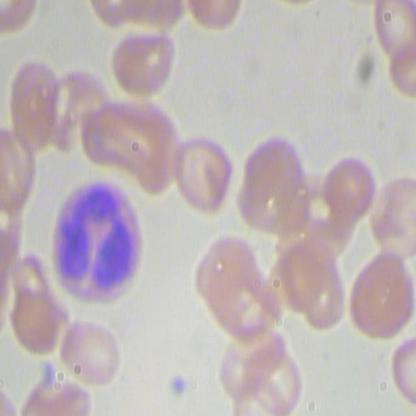RBC: (237, 131, 315, 232), (346, 247, 416, 337), (194, 230, 262, 320), (6, 57, 64, 160), (170, 131, 238, 212), (110, 20, 177, 101), (54, 317, 126, 383), (245, 340, 307, 412), (7, 281, 66, 355), (322, 154, 380, 215), (372, 1, 416, 61)
WBC: (41, 177, 154, 311), (167, 373, 187, 396)
